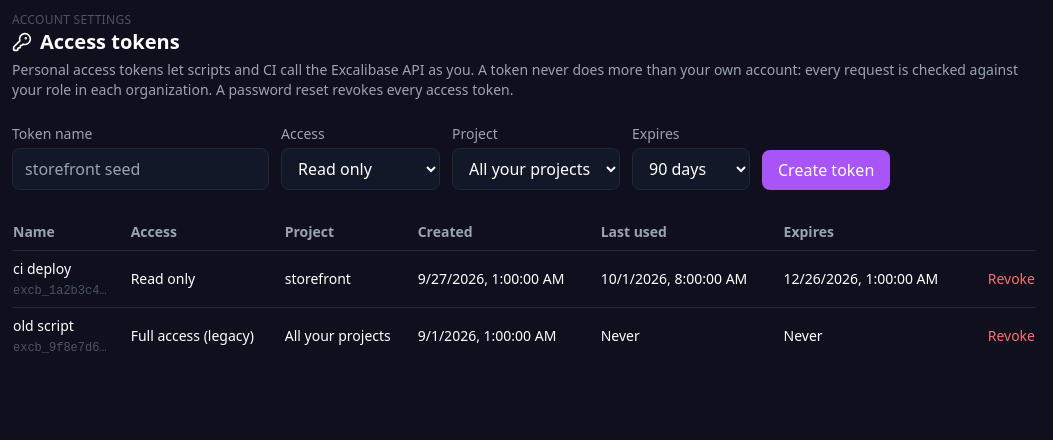
Test: Access tokens › a refused creation shows the server reason and no secret
Expected: the row with test id "access-token-hash-ci" is shown, [12,250,1036,308]
Type "bulk" into the field labelled "Token name" at [140, 169], box [12,148,269,190]
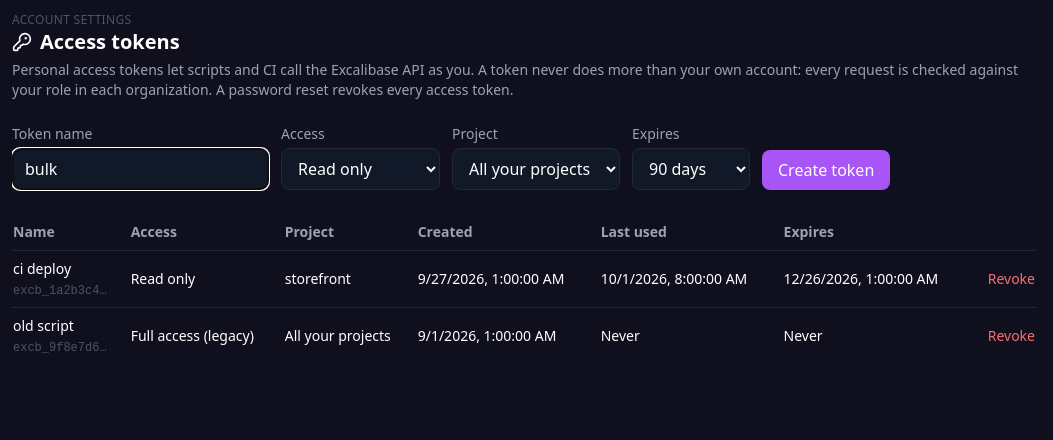
Click the button "Create token" at [826, 170], box [762,150,890,190]
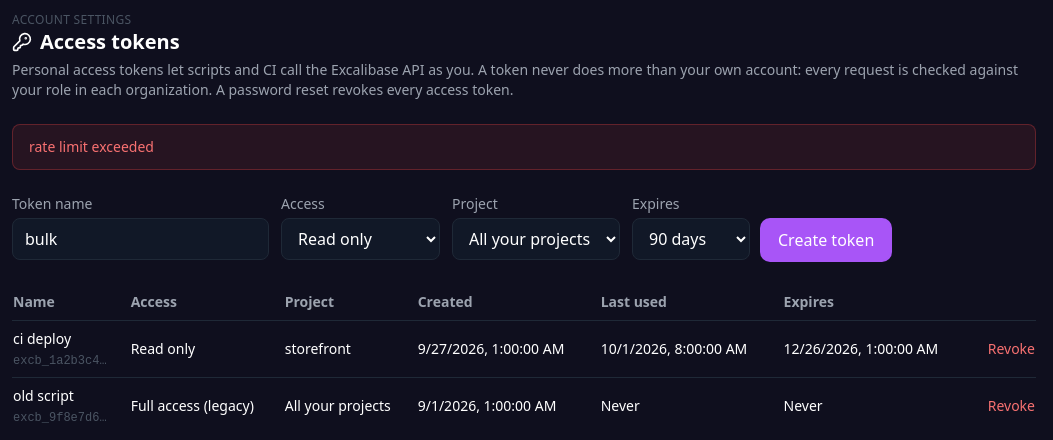
Now the text "rate limit exceeded" is shown, box [12,124,1036,170]
